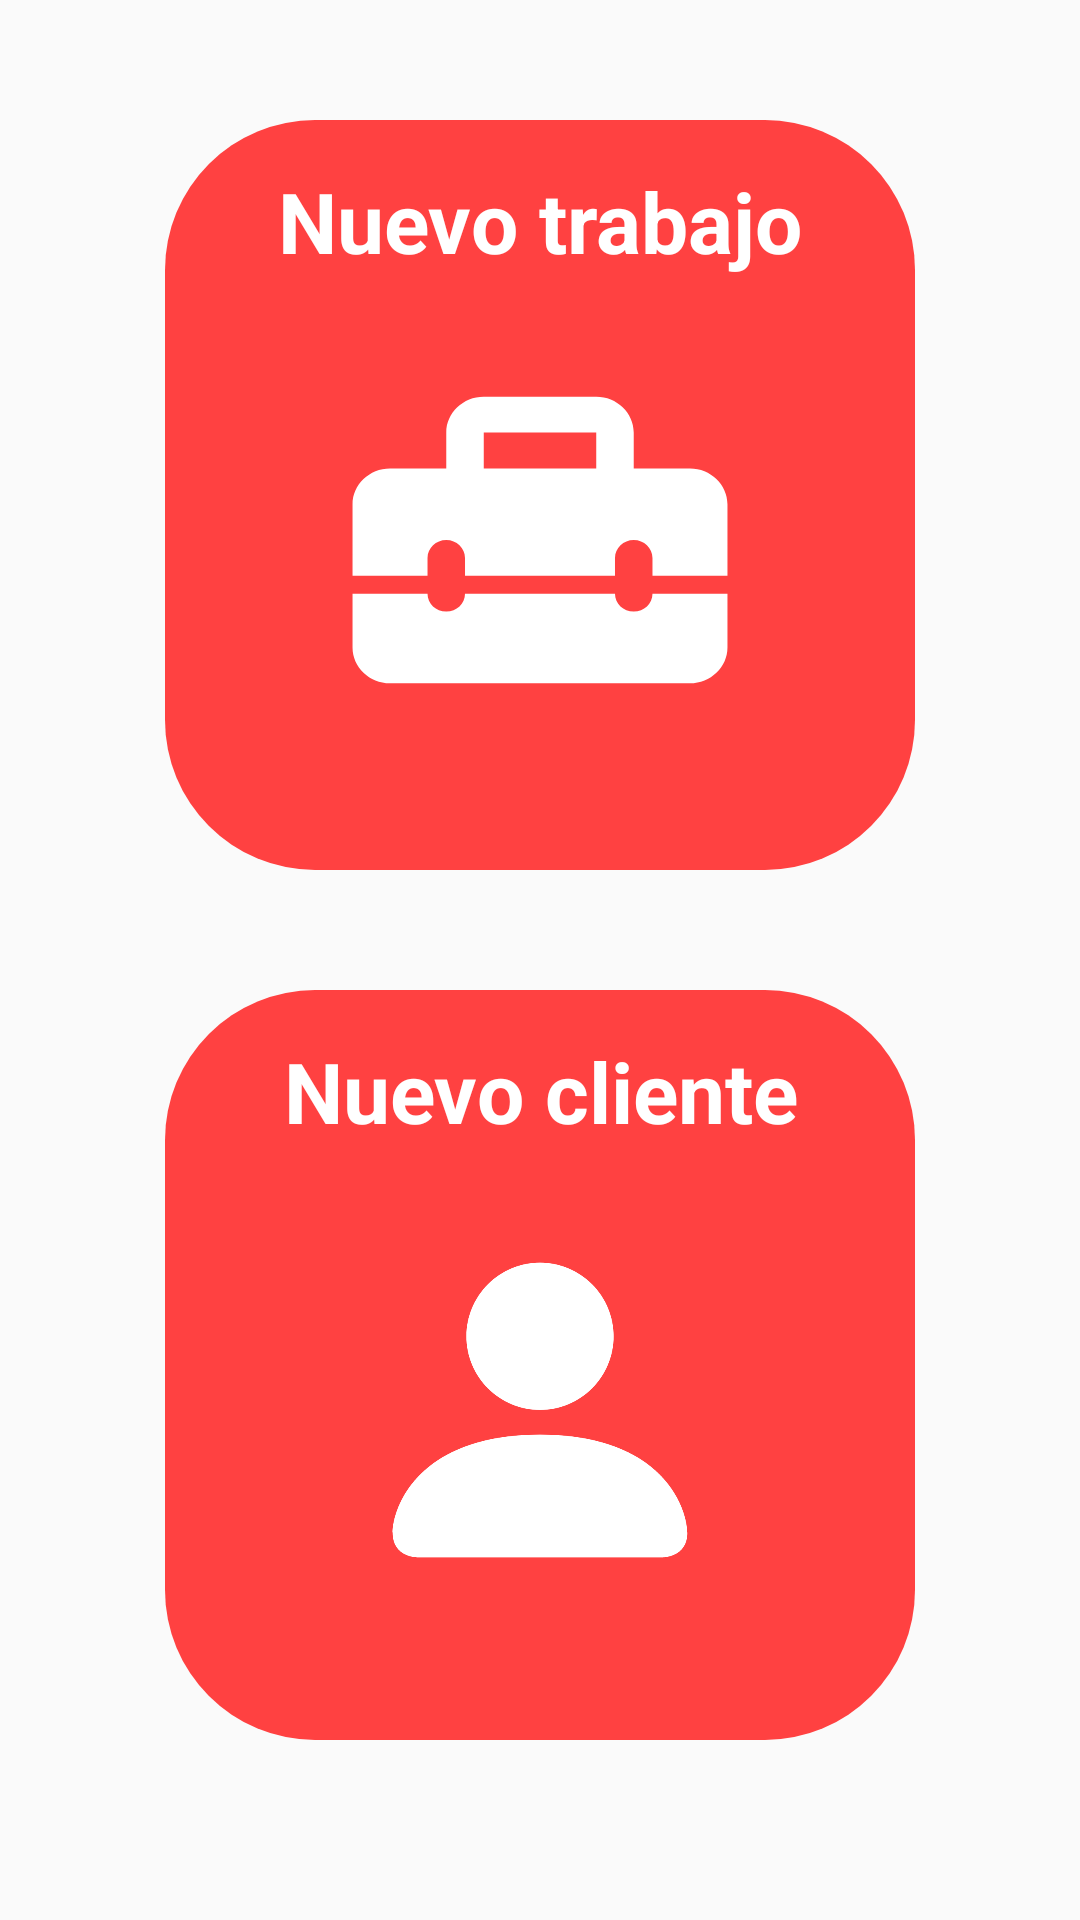

Screen size 1080×1920. Icon name, then its center in pixels as [x,y]:
person: [540,1410]
